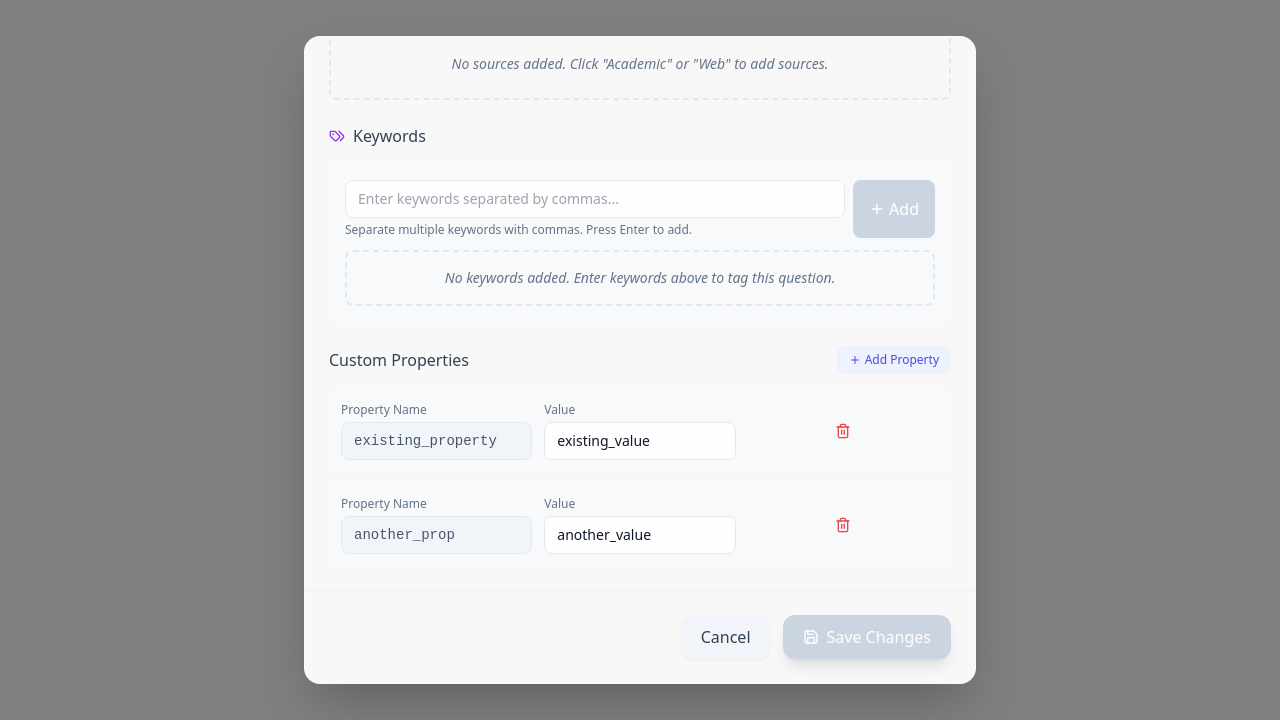
Test: MetadataEditor › allows adding custom properties
(page scrolled)
Click the button "Add Property". click: (894, 360)
box: [837,346,951,374]
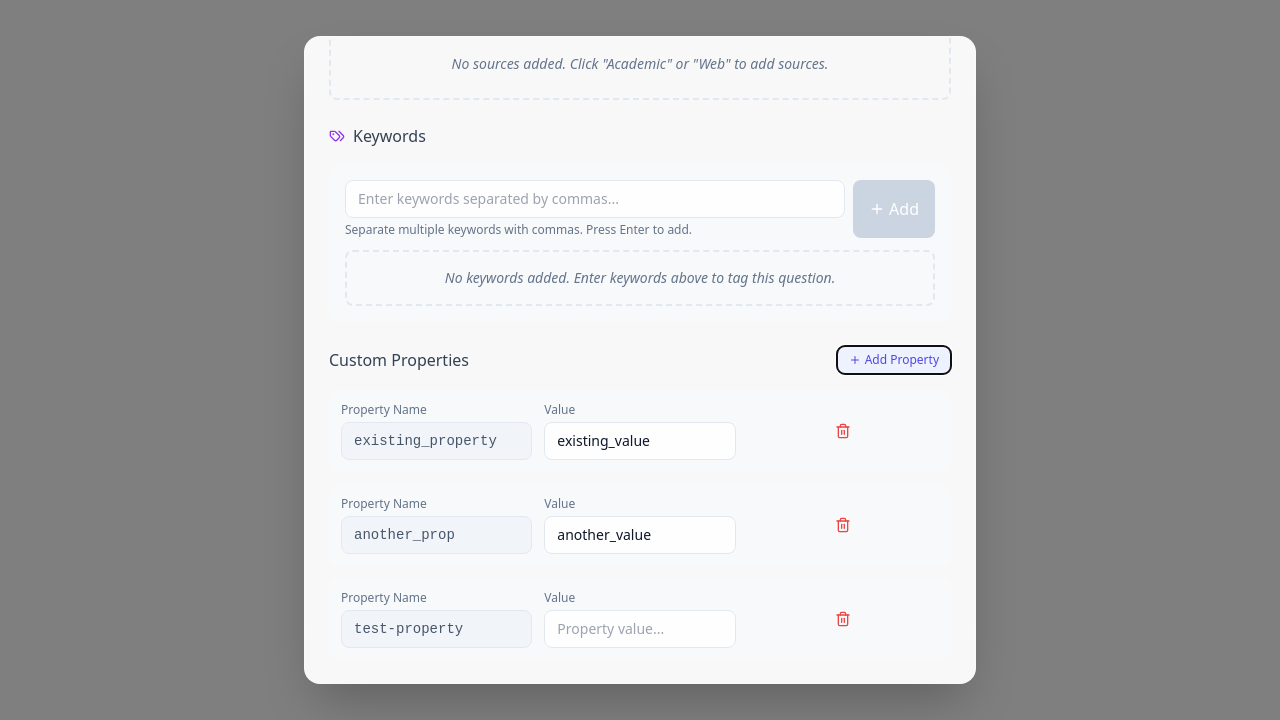
Expected: the 5th field showing "test-property" is shown, [341,610,532,648]
